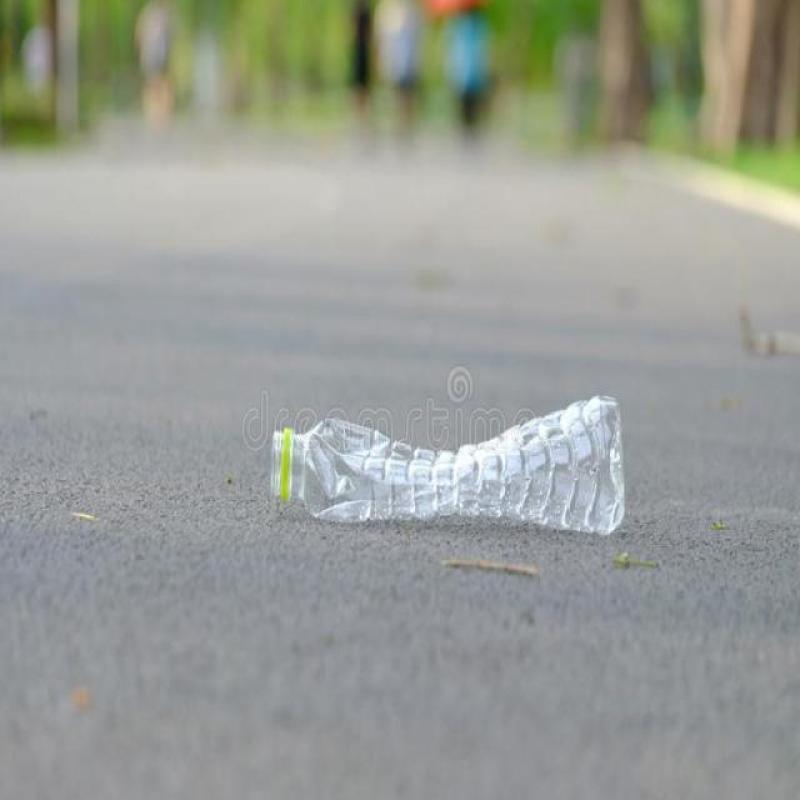botella: (269, 393, 625, 533)
